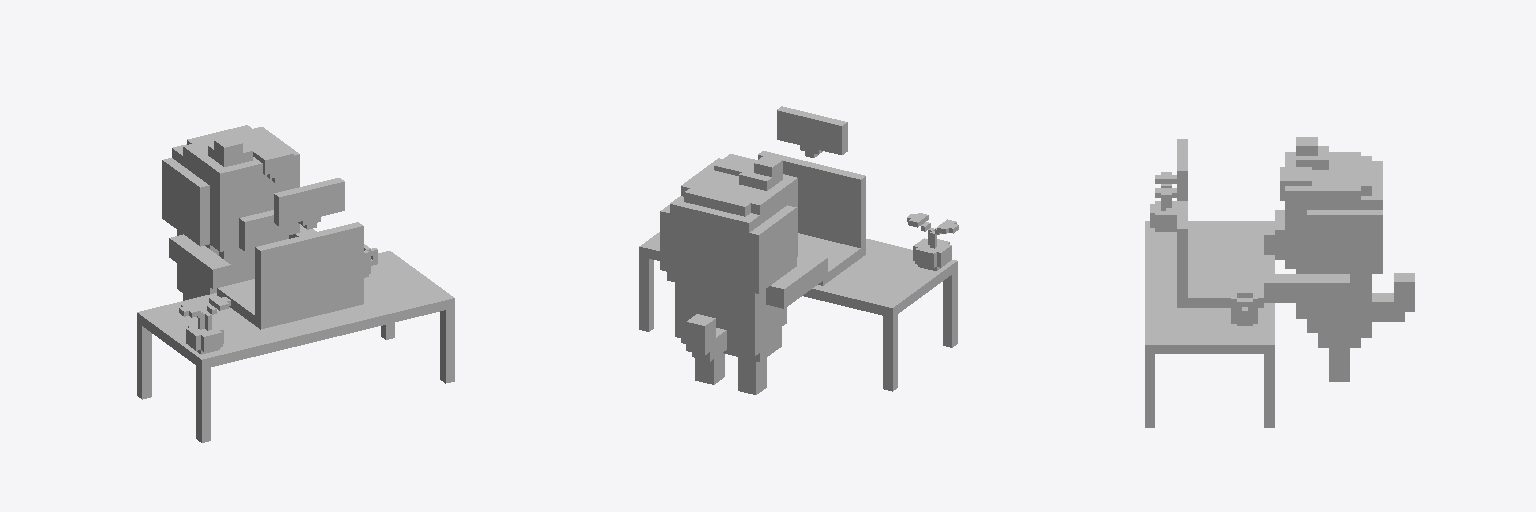
File: dog.obj
3 views of the same model, side by side, from view 1: azimuth 30°, elevation 25°; view 2: azimuth 150°, elevation 25°; view 3: azimuth 270°, elevation 25° (orthographic).
Parts seen in each view (by area): view 1: main; view 2: main; view 3: main.
Boxes of the visible parts, box(x1,y1,x2,y2) form: main: box(137, 125, 454, 442); main: box(639, 106, 958, 394); main: box(1145, 137, 1414, 427).
Size of the model in its own units: 5.6 by 4.4 by 5.